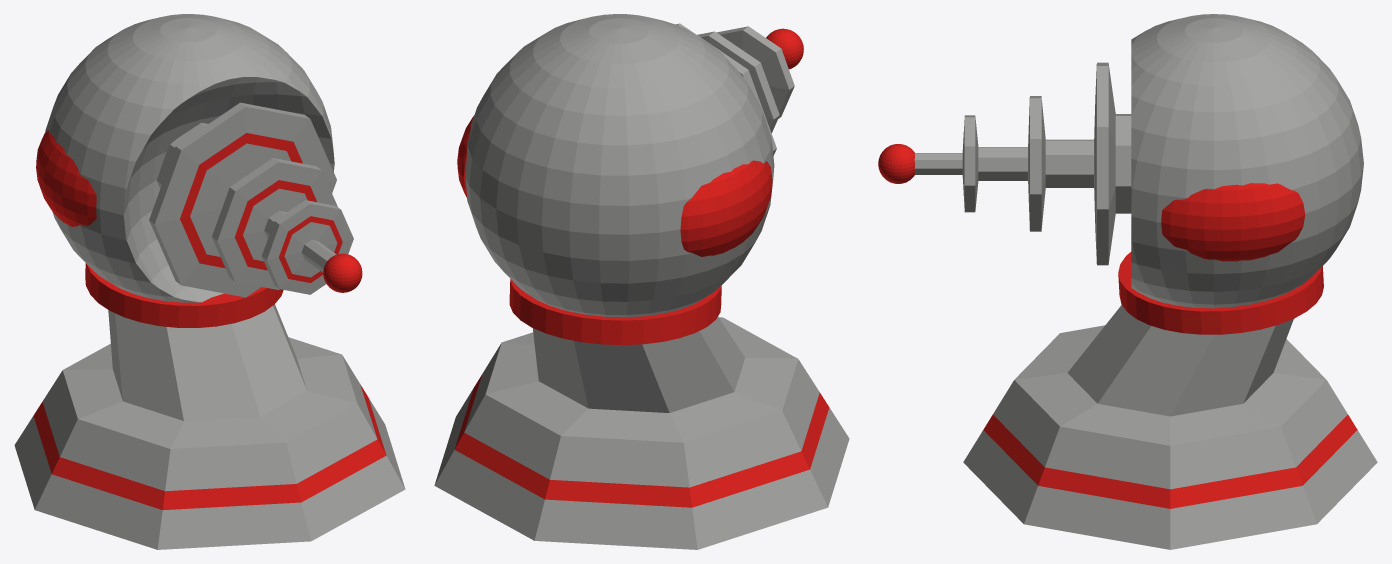
Rendered from Laser_Tower_Fire.fbx.
3 renders of one model, left to right at view 1: azimuth 30°, elevation 25°; view 2: azimuth 150°, elevation 25°; view 3: azimuth 270°, elevation 25°, orthographic. The views are drawn at different scales.
Parts seen in each view (by area): view 1: Sphere; view 2: Sphere; view 3: Sphere.
Part boxes in pixels (x1,y1,x2,y2): Sphere: (14, 14, 405, 549); Sphere: (434, 14, 849, 549); Sphere: (878, 14, 1377, 549).
Size of the model in its own units: 445 by 514 by 536.
1 material, 1 textured.
